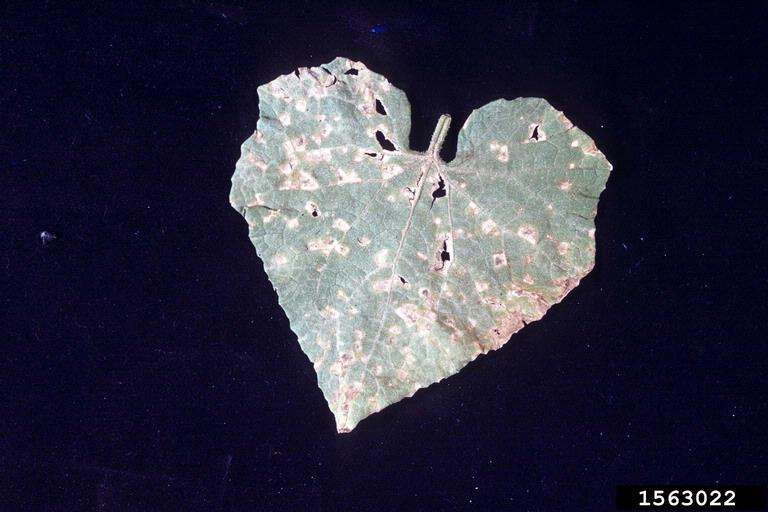Cucumber_AngularLeafSpot: (252, 64, 591, 428)
